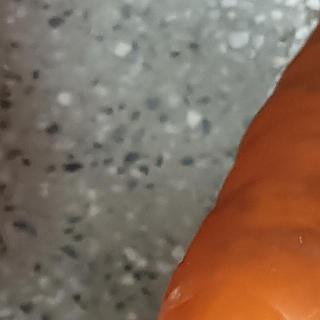carrot: (145, 0, 320, 320)
